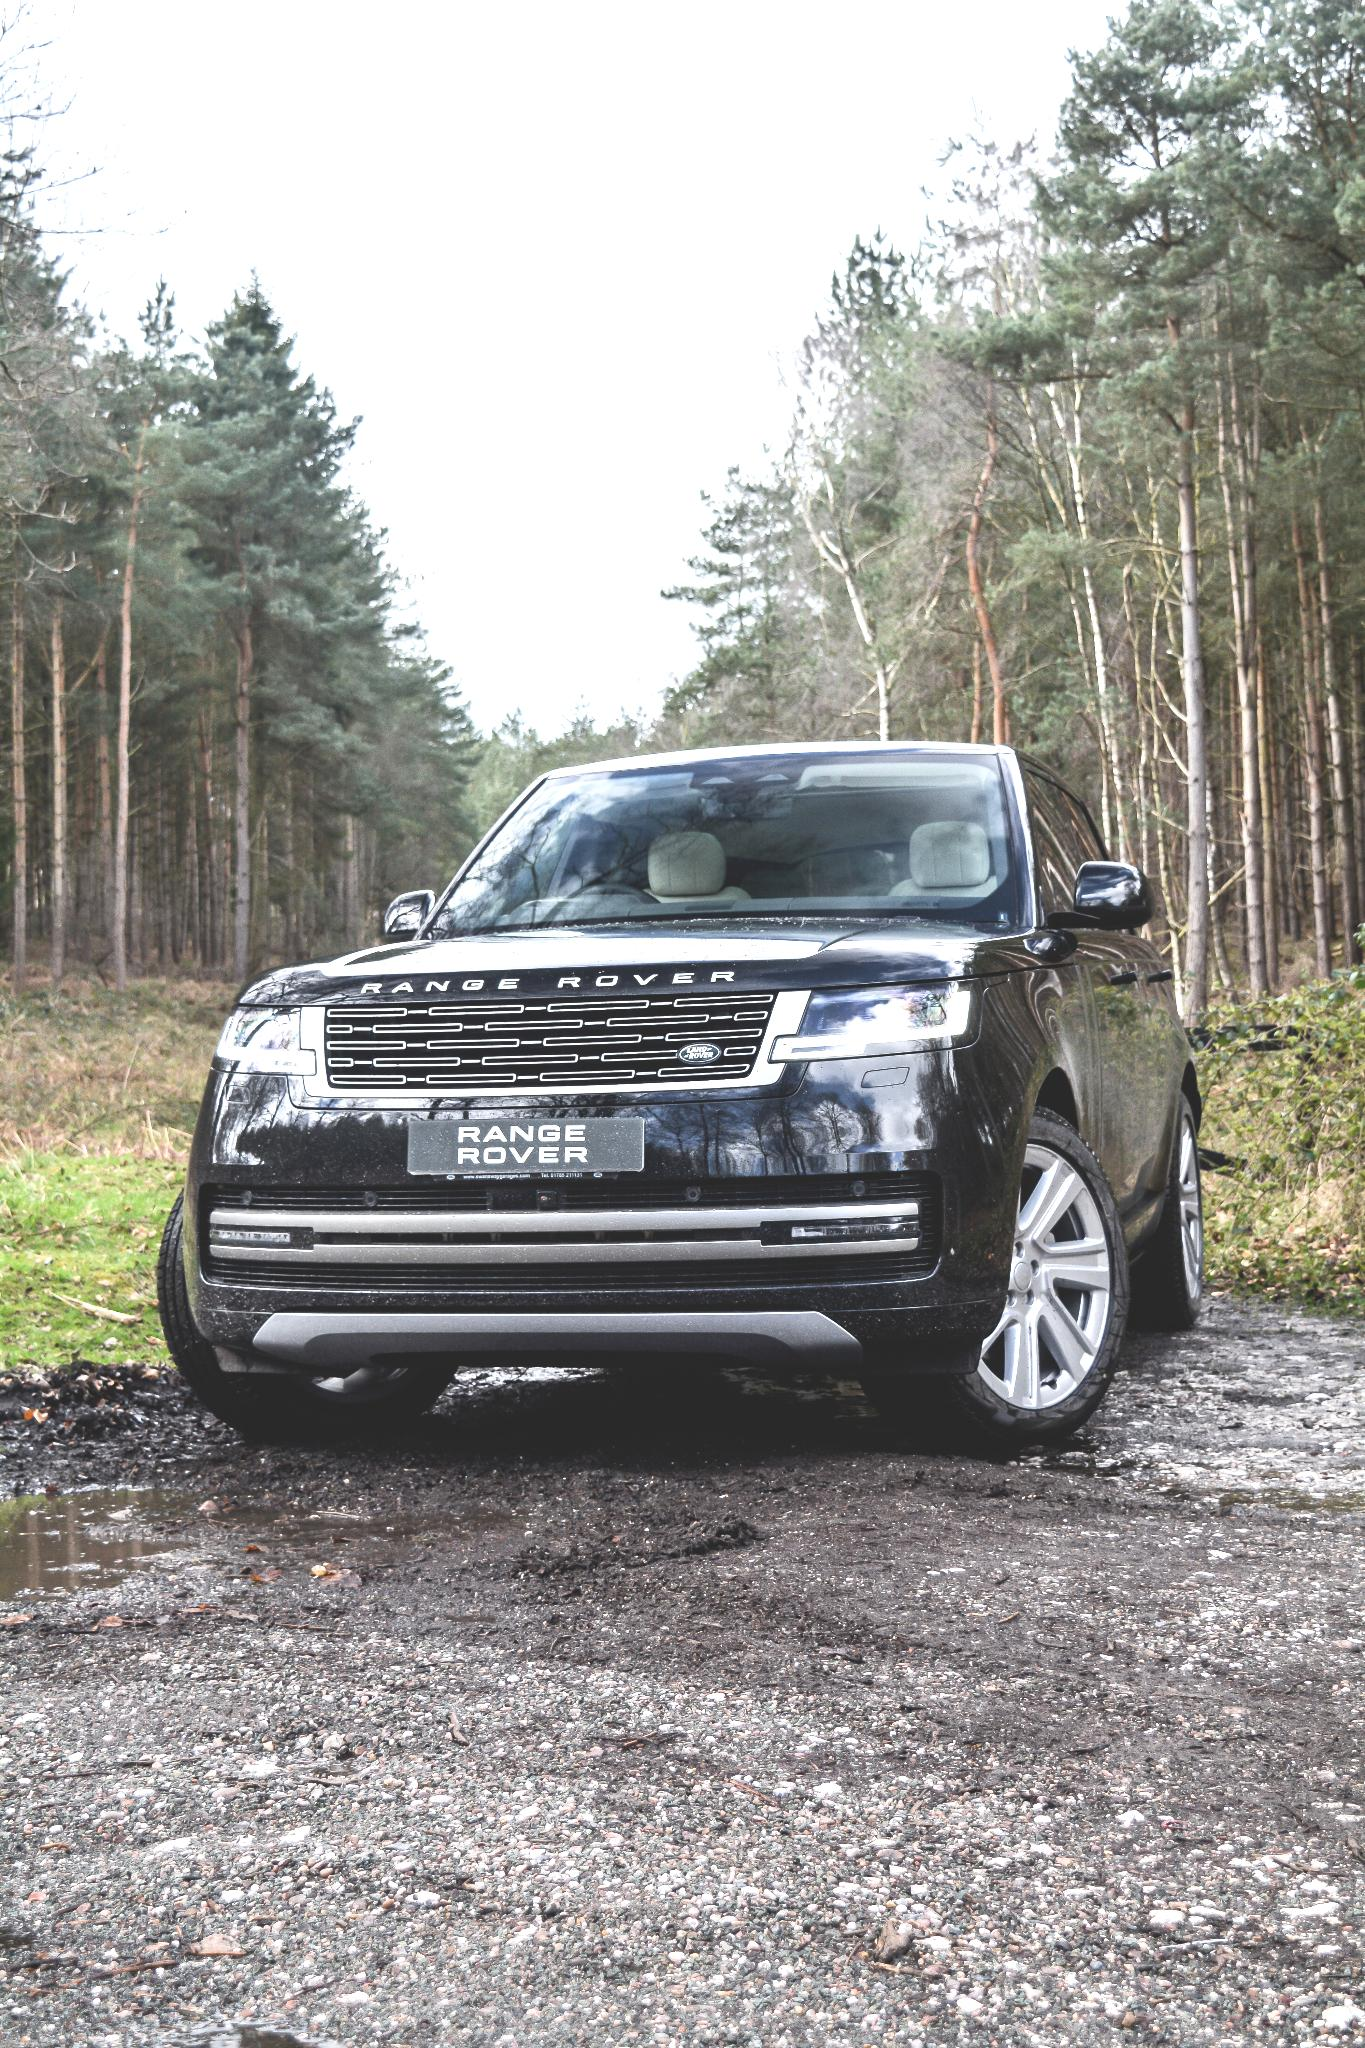range rover: (347, 956, 760, 1006)
